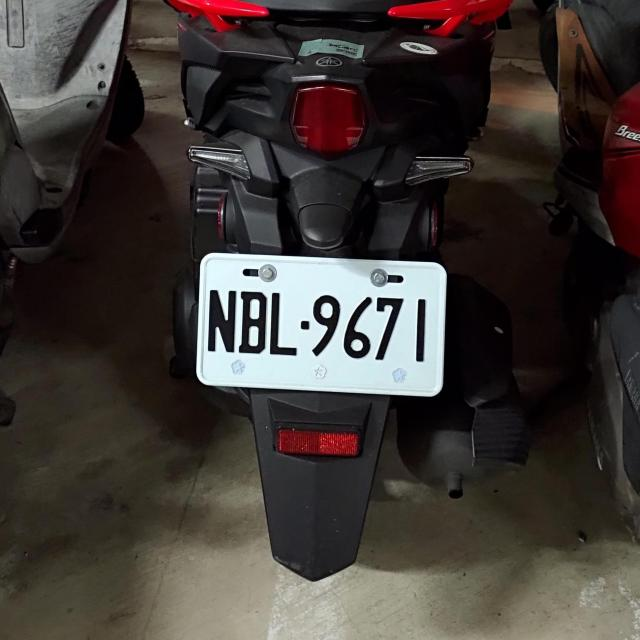W: (196, 250, 448, 396)
